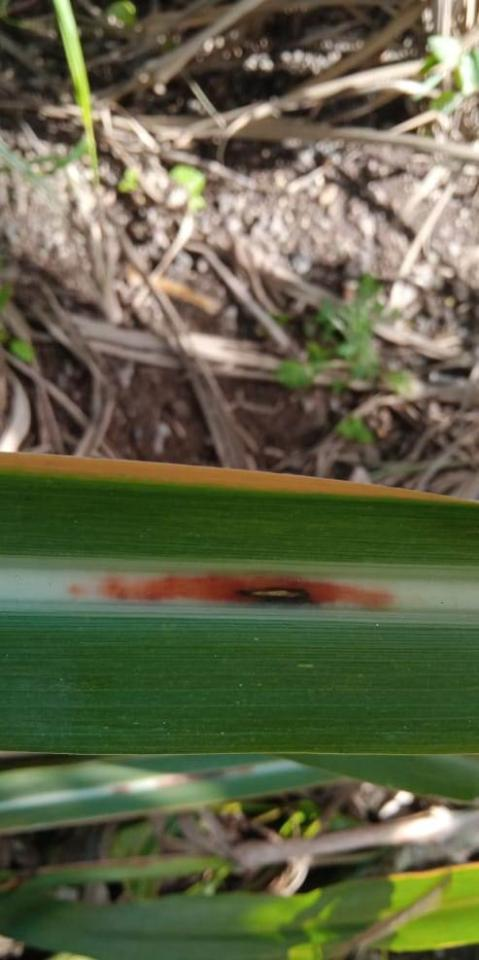RedRot: (63, 570, 398, 610)
